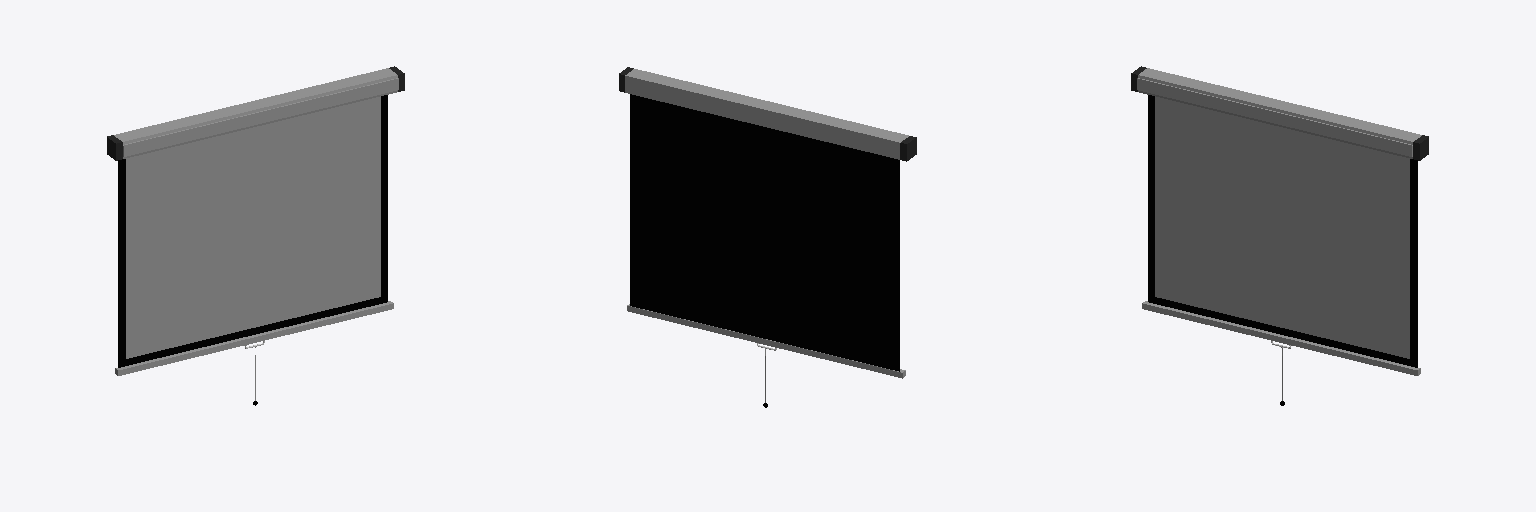
File: projector_scherm.obj
The picture shows the model from 3 angles: view 1: azimuth 30°, elevation 25°; view 2: azimuth 150°, elevation 25°; view 3: azimuth 330°, elevation 25°; orthographic projection.
Parts seen in each view (by area): view 1: Cube, Cube.003_Cube.004, Cube.002; view 2: Cube, Cube.003_Cube.004, Cube.002; view 3: Cube, Cube.003_Cube.004, Cube.002.
Part boxes in pixels (x1,y1,x2,y2): Cube: (118, 95, 387, 367); Cube.003_Cube.004: (114, 68, 398, 158); Cube.002: (115, 301, 393, 375); Cube: (630, 94, 899, 371); Cube.003_Cube.004: (625, 69, 908, 159); Cube.002: (627, 304, 905, 378); Cube: (1148, 95, 1417, 367); Cube.003_Cube.004: (1137, 68, 1421, 158); Cube.002: (1142, 301, 1420, 375).
Bounding box in the file's own units: 5.24 × 5.23 × 0.3285.